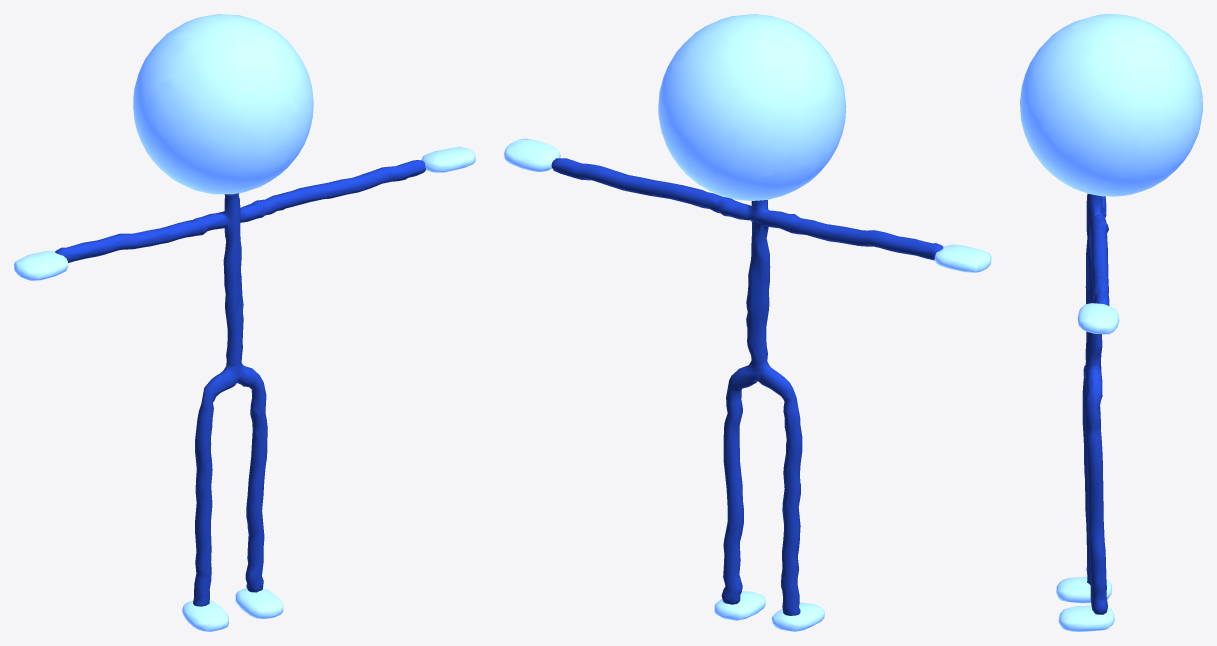
File: based $mfer.glb
The picture shows the model from 3 angles, left to right: view 1: azimuth 30°, elevation 25°; view 2: azimuth 150°, elevation 25°; view 3: azimuth 270°, elevation 25°; orthographic projection. The views are drawn at different scales.
Parts seen in each view (by area): view 1: type_based_mfer.001; view 2: type_based_mfer.001; view 3: type_based_mfer.001.
Boxes of the visible parts, x1,y1,x2,y2 form: type_based_mfer.001: (14,14,475,631); type_based_mfer.001: (504,14,991,631); type_based_mfer.001: (1020,14,1202,631).
Bounding box in the file's own units: 0.9748 × 1.19 × 0.3319.
